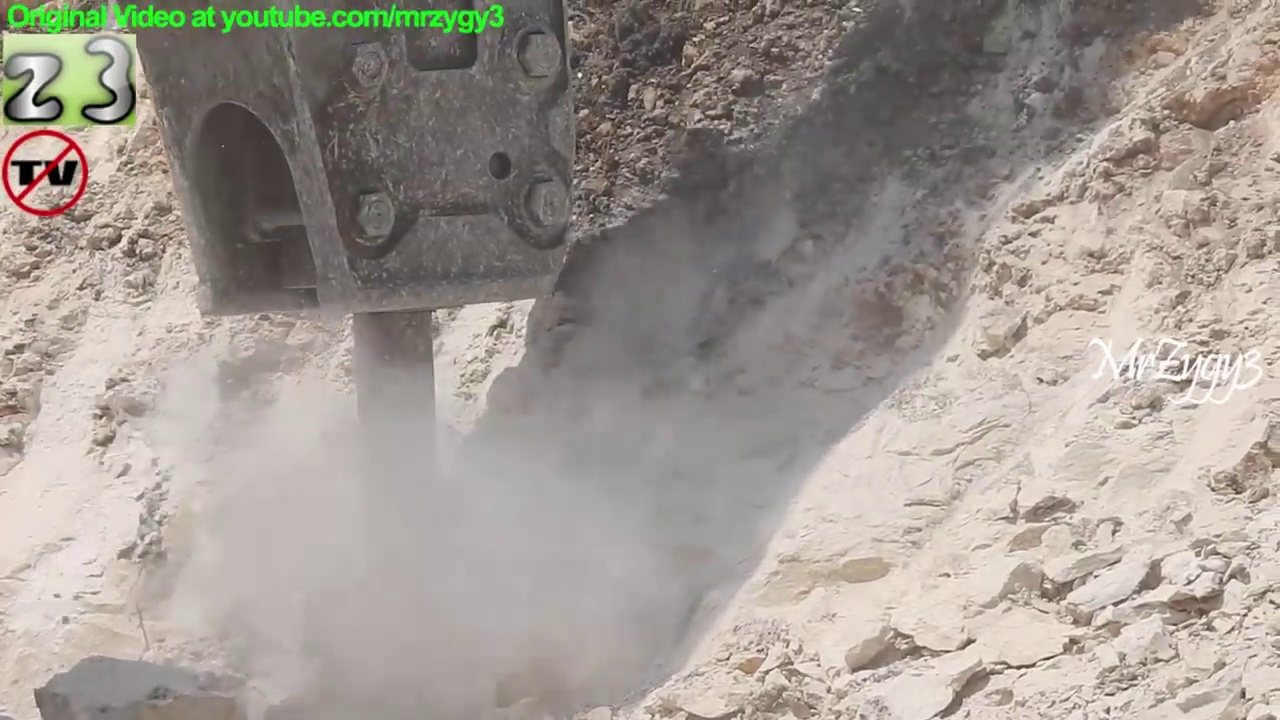excavator: (116, 1, 589, 634)
